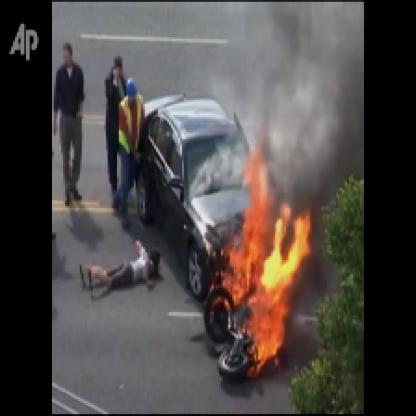Fire: (208, 124, 310, 384)
Smoke: (251, 2, 362, 176)
